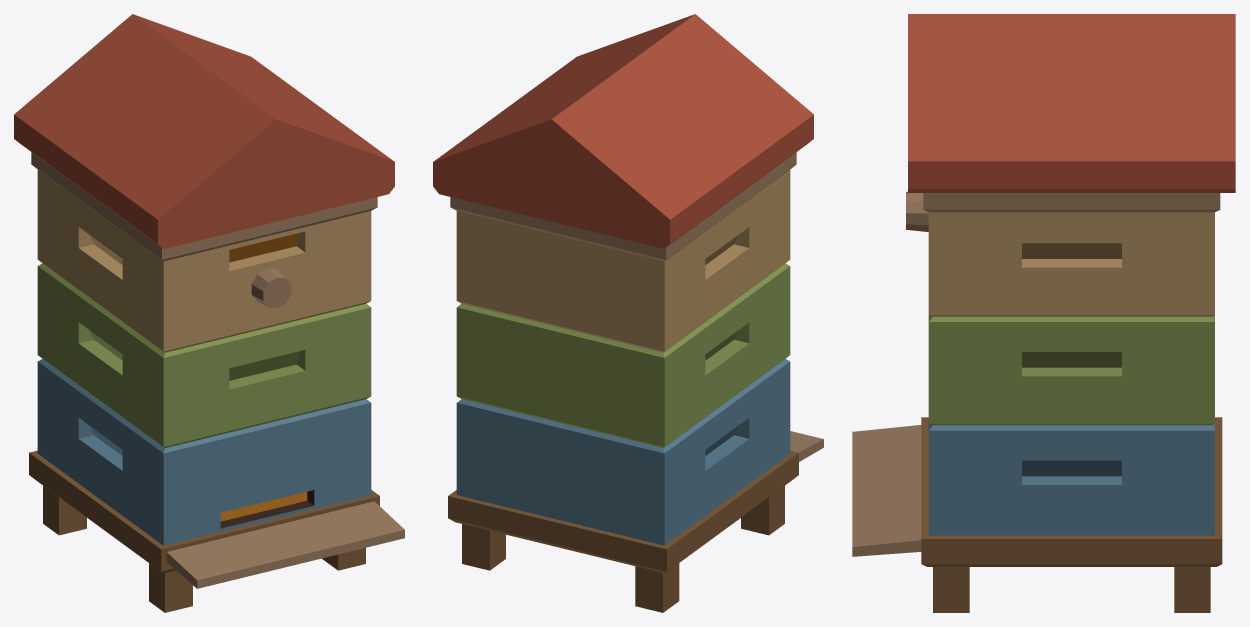
Rendered from beehive-2e70bf.glb.
The picture shows the model from 3 angles, left to right: view 1: azimuth 30°, elevation 25°; view 2: azimuth 150°, elevation 25°; view 3: azimuth 270°, elevation 25°; orthographic projection. The views are drawn at different scales.
Parts seen in each view (by area): view 1: hive-body, hive-lid; view 2: hive-body, hive-lid; view 3: hive-body, hive-lid.
Boxes of the visible parts, <box> form: hive-body: <box>29,170,404,612</box>; hive-lid: <box>14,14,394,261</box>; hive-body: <box>448,170,823,612</box>; hive-lid: <box>433,14,813,261</box>; hive-body: <box>852,191,1222,612</box>; hive-lid: <box>908,14,1235,212</box>.
Bounding box in the file's own units: 0.468 × 0.9 × 0.576.
